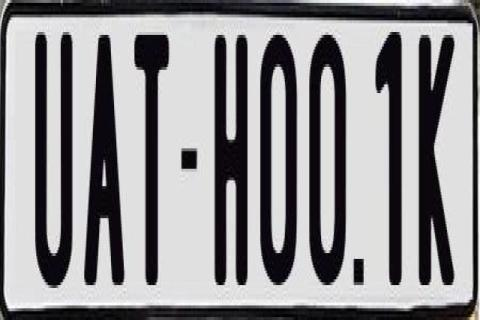0: (258, 32, 301, 294), (310, 35, 350, 291), (372, 29, 404, 294)
A: (82, 27, 126, 286)
H: (213, 26, 250, 291)
K: (417, 32, 454, 296)
T: (134, 32, 172, 291)
U: (35, 26, 74, 288)
